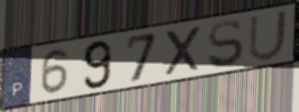6: (39, 47, 71, 95)
7: (124, 31, 158, 84)
9: (80, 39, 116, 90)
S: (206, 18, 246, 70)
U: (246, 8, 290, 63)
X: (163, 23, 204, 78)
